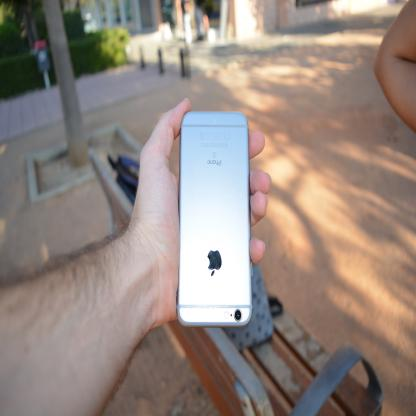smartphone: (176, 110, 253, 328)
